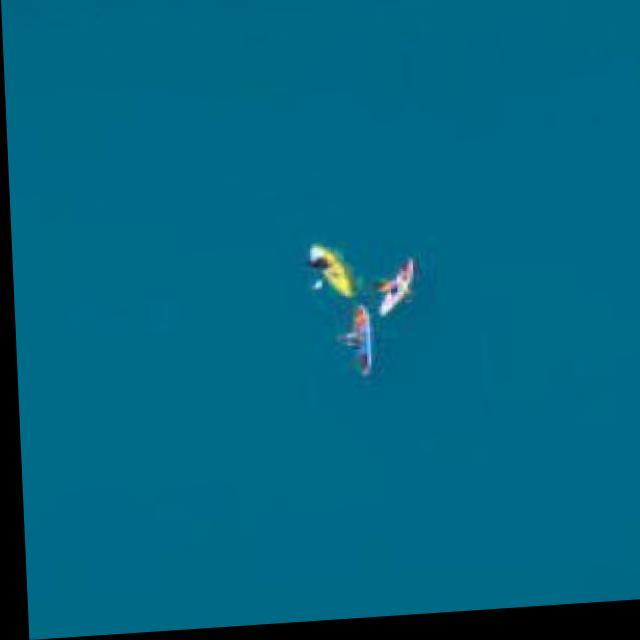kayak: (304, 250, 348, 300), (333, 315, 365, 380), (374, 264, 409, 320)
